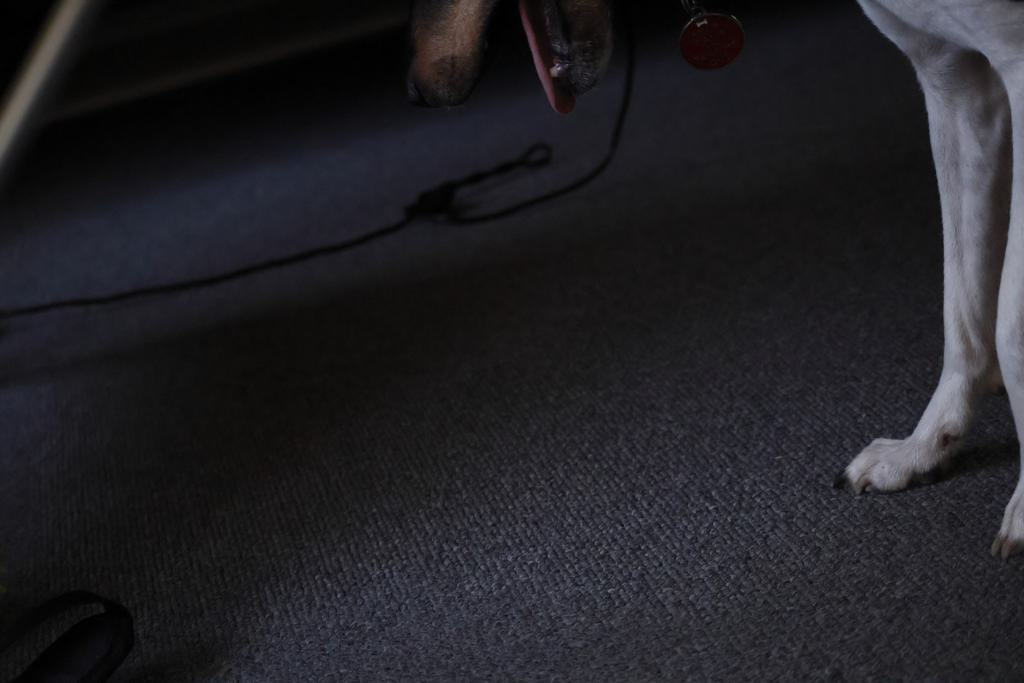Dog: (374, 0, 1024, 578)
